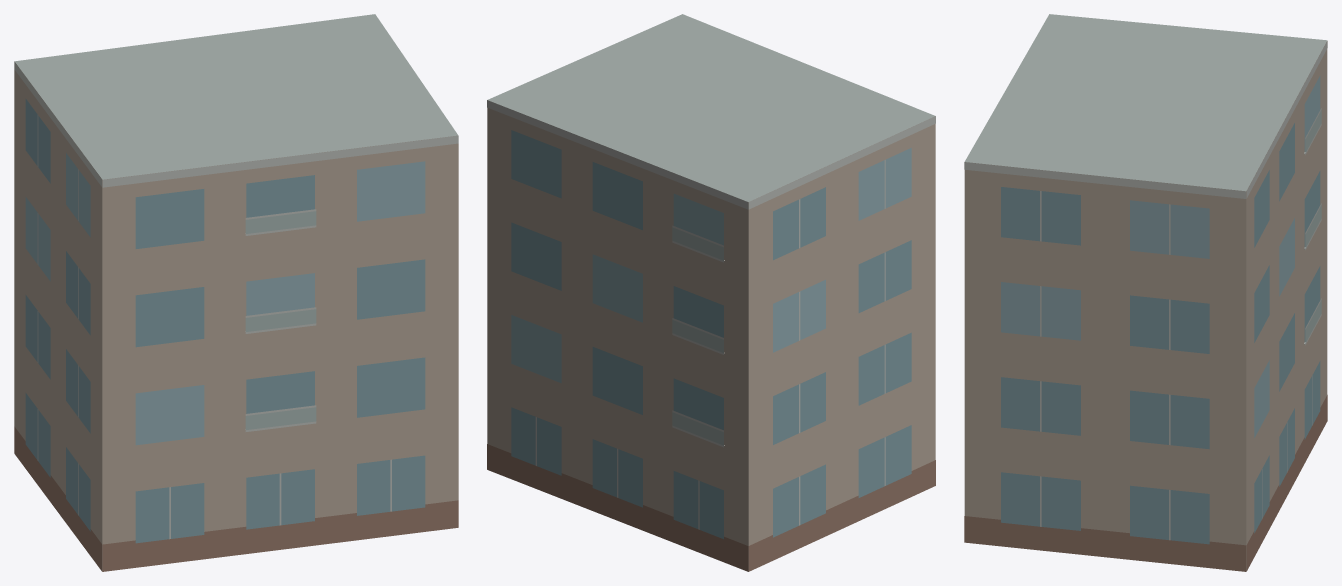
File: survey-upis-33038376.glb
3 renders of one model, left to right at view 1: azimuth 30°, elevation 25°; view 2: azimuth 150°, elevation 25°; view 3: azimuth 270°, elevation 25°, orthographic. The views are drawn at different scales.
Visible parts, largest first — view 1: survey-upis-33038376.tmp; view 2: survey-upis-33038376.tmp; view 3: survey-upis-33038376.tmp.
Boxes of the visible parts, x1,y1,x2,y2 form: survey-upis-33038376.tmp: (14, 14, 458, 571); survey-upis-33038376.tmp: (487, 14, 935, 571); survey-upis-33038376.tmp: (964, 14, 1327, 571).
Size of the model in its own units: 11.9 by 11.9 by 10.3.
